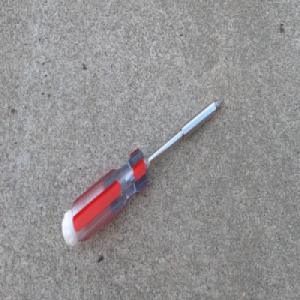Screwdriver: (60, 95, 225, 247)
